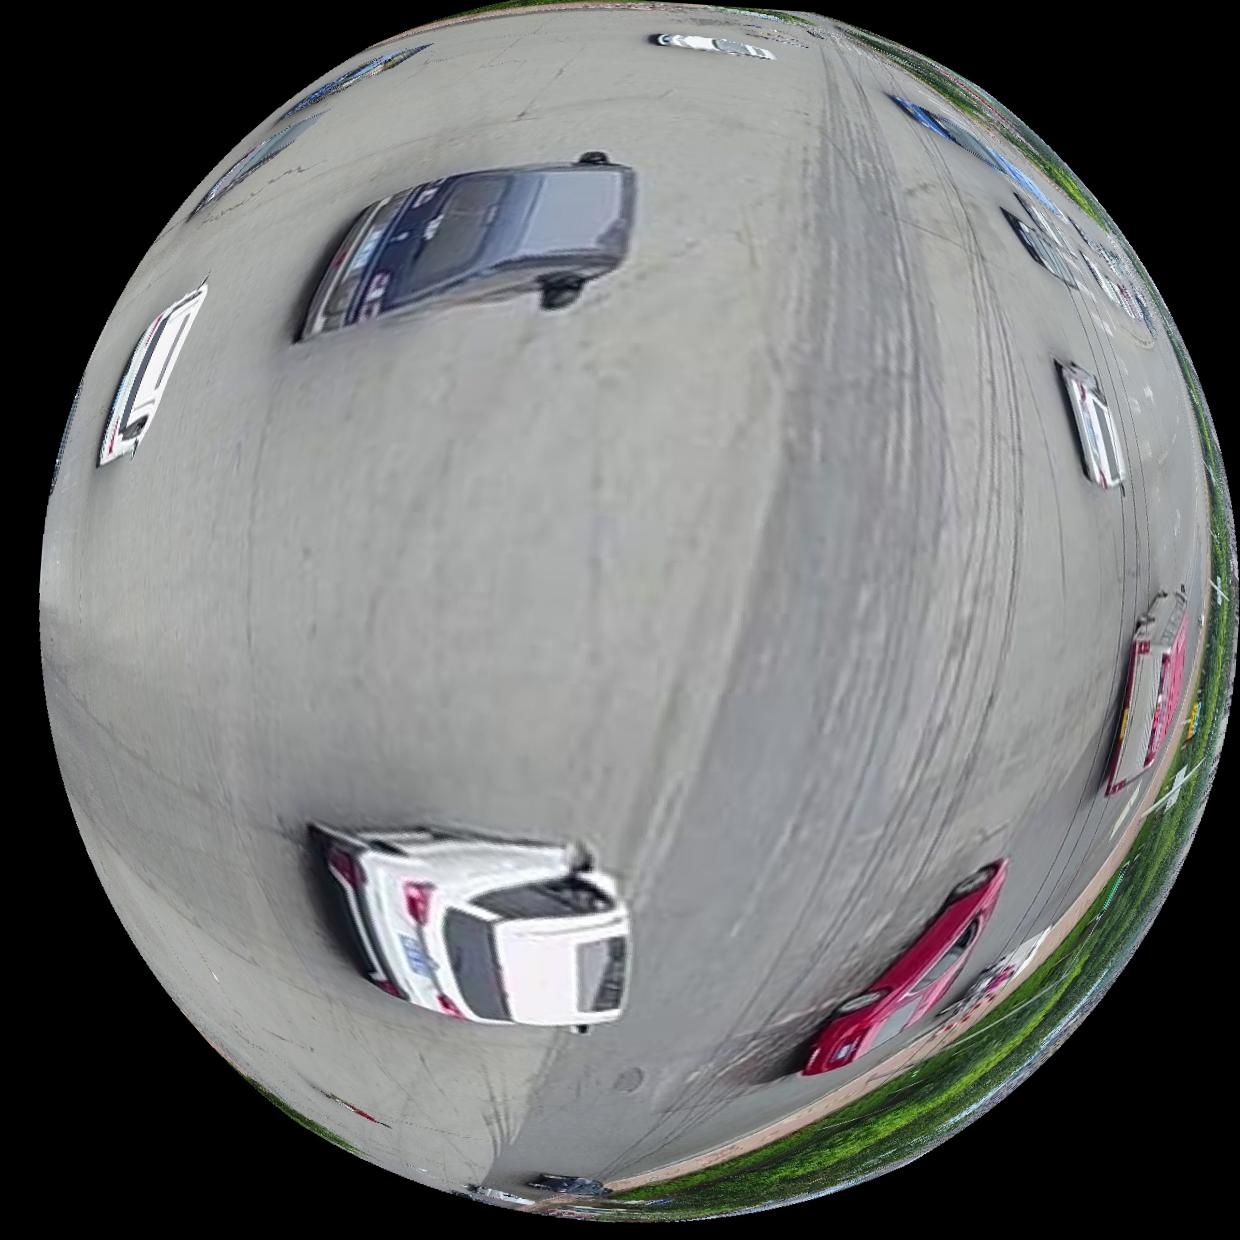cars: (307, 824, 628, 1033), (296, 150, 632, 341), (801, 858, 1007, 1079), (890, 93, 1066, 219), (94, 279, 204, 464), (1105, 585, 1190, 798), (1056, 361, 1125, 489), (1003, 209, 1079, 286), (648, 30, 774, 58), (1017, 195, 1075, 254)
trees: (645, 508, 1237, 1222)
